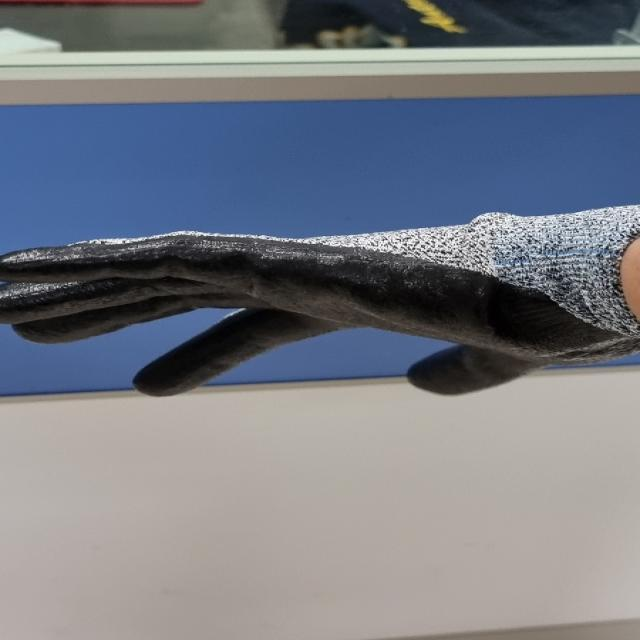Gloves: (7, 210, 625, 402)
